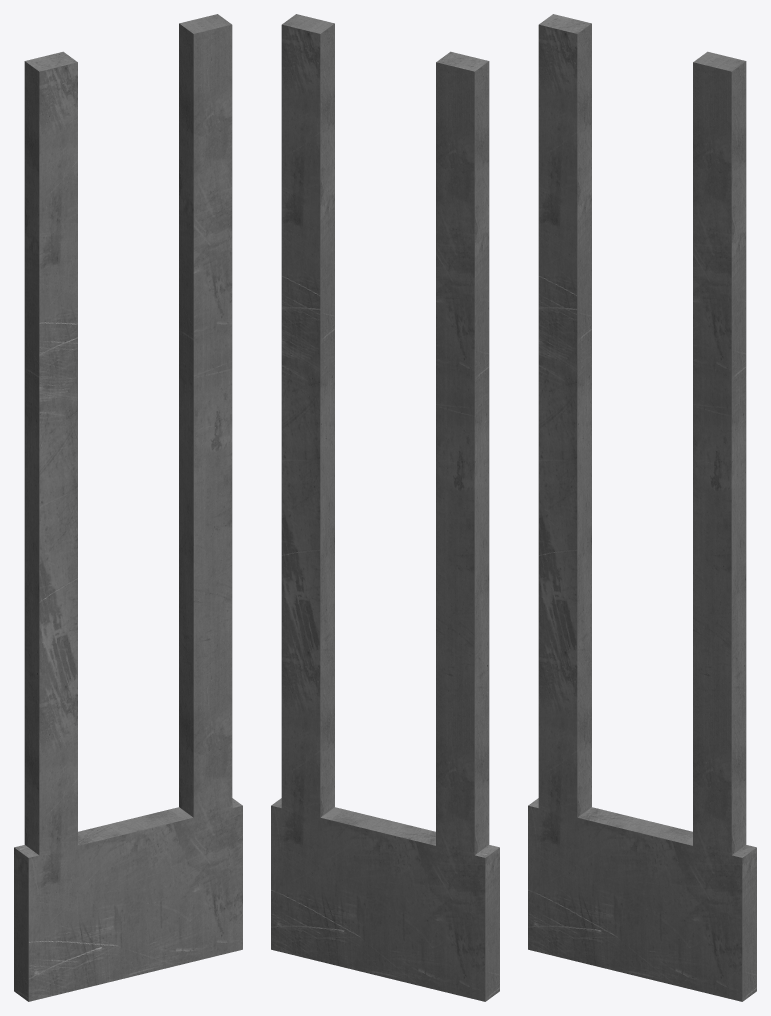
Rendered from Sign.glb.
3 views of the same model, side by side, from view 1: azimuth 30°, elevation 25°; view 2: azimuth 150°, elevation 25°; view 3: azimuth 330°, elevation 25° (orthographic).
Visible parts, largest first — view 1: CryoSign; view 2: CryoSign; view 3: CryoSign.
Boxes of the visible parts, x1=… form: CryoSign: x1=14, y1=14, x2=242, y2=1001; CryoSign: x1=271, y1=14, x2=499, y2=1001; CryoSign: x1=528, y1=14, x2=756, y2=1001.
Size of the model in its own units: 1.08 by 4.46 by 0.126.
1 material, 1 textured.
